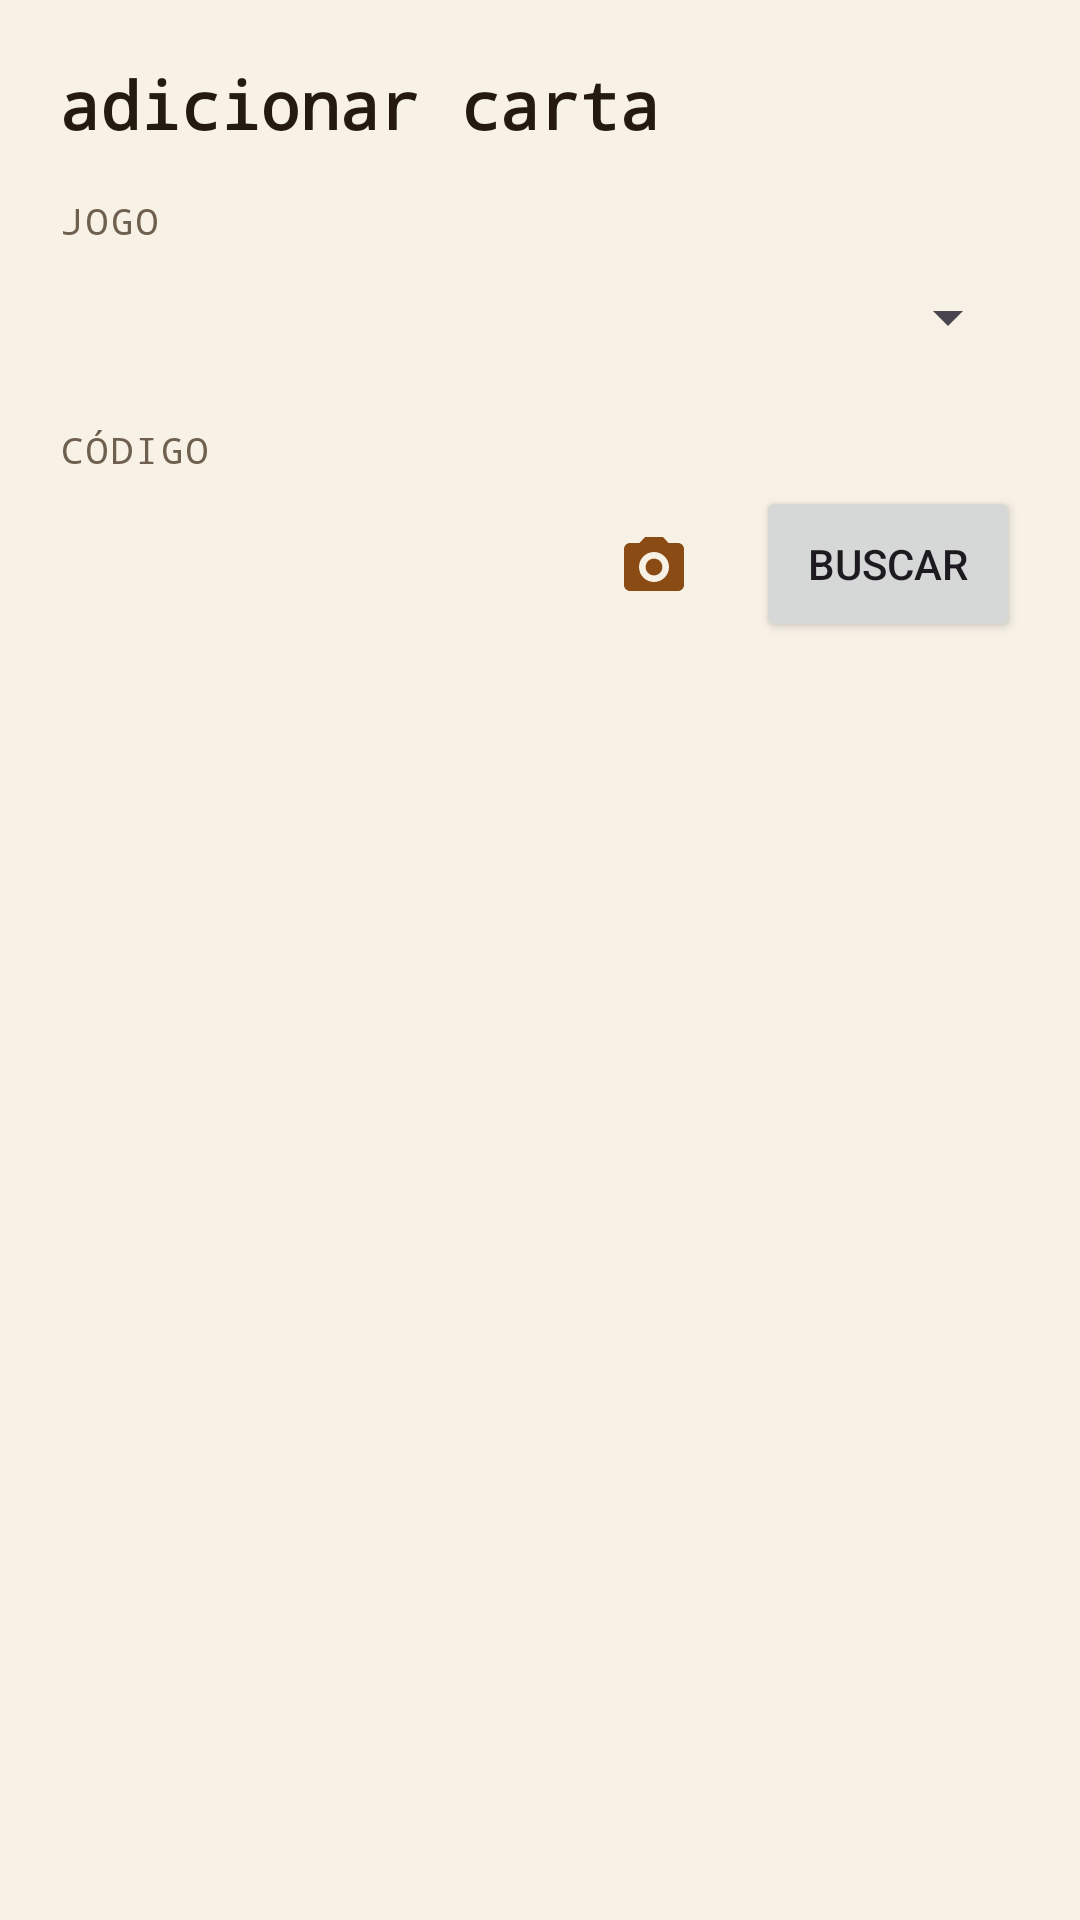

Named icons in this screenshot (1080 × 1920) and their centers, (x=x, y=y):
Ler o código pela câmera: (x=654, y=564)
